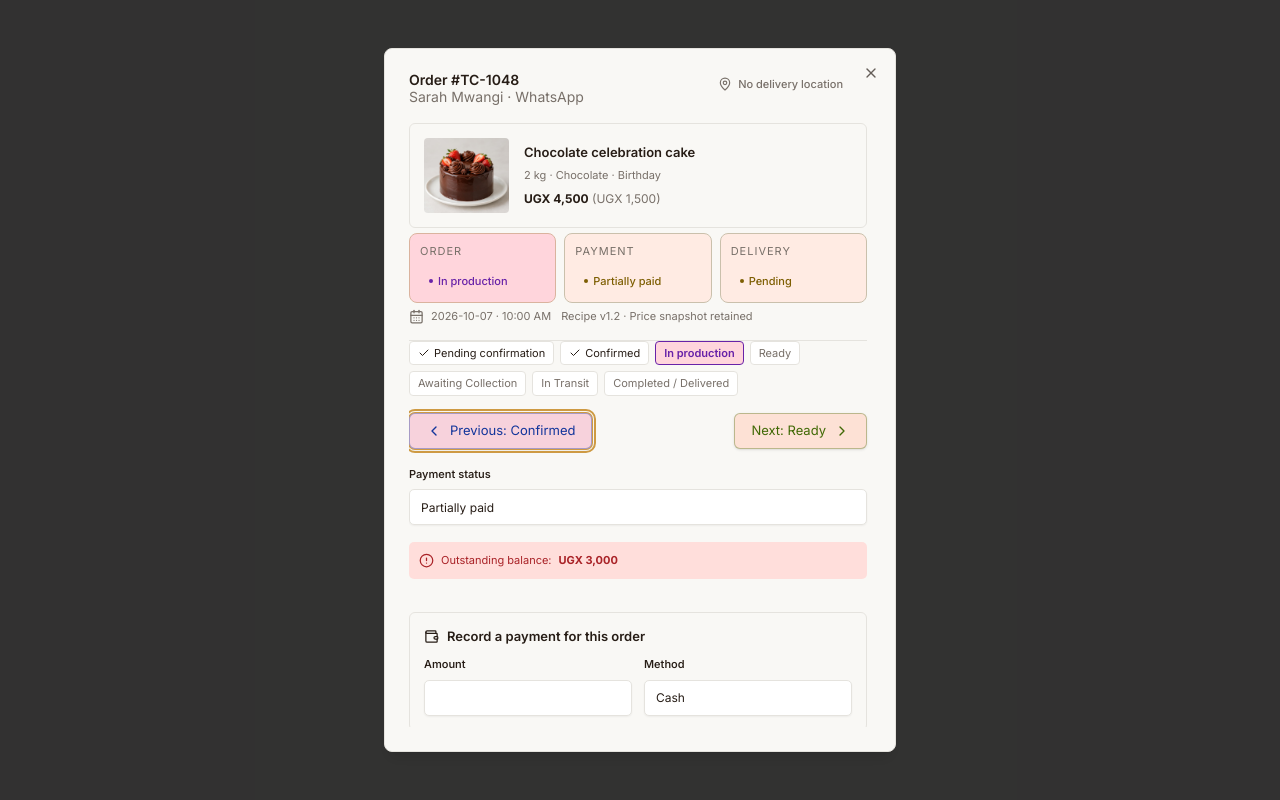
it: OrderDialog stage strip (Phase E5) › opens on the ACTIVE stage and only advances when Next is clicked
The image size is (1280, 800).
Manual step forward — the target moves one stage, submit unlocks.
Click the button "Next: Ready": (801, 430) x1=734 y1=412 x2=867 y2=448
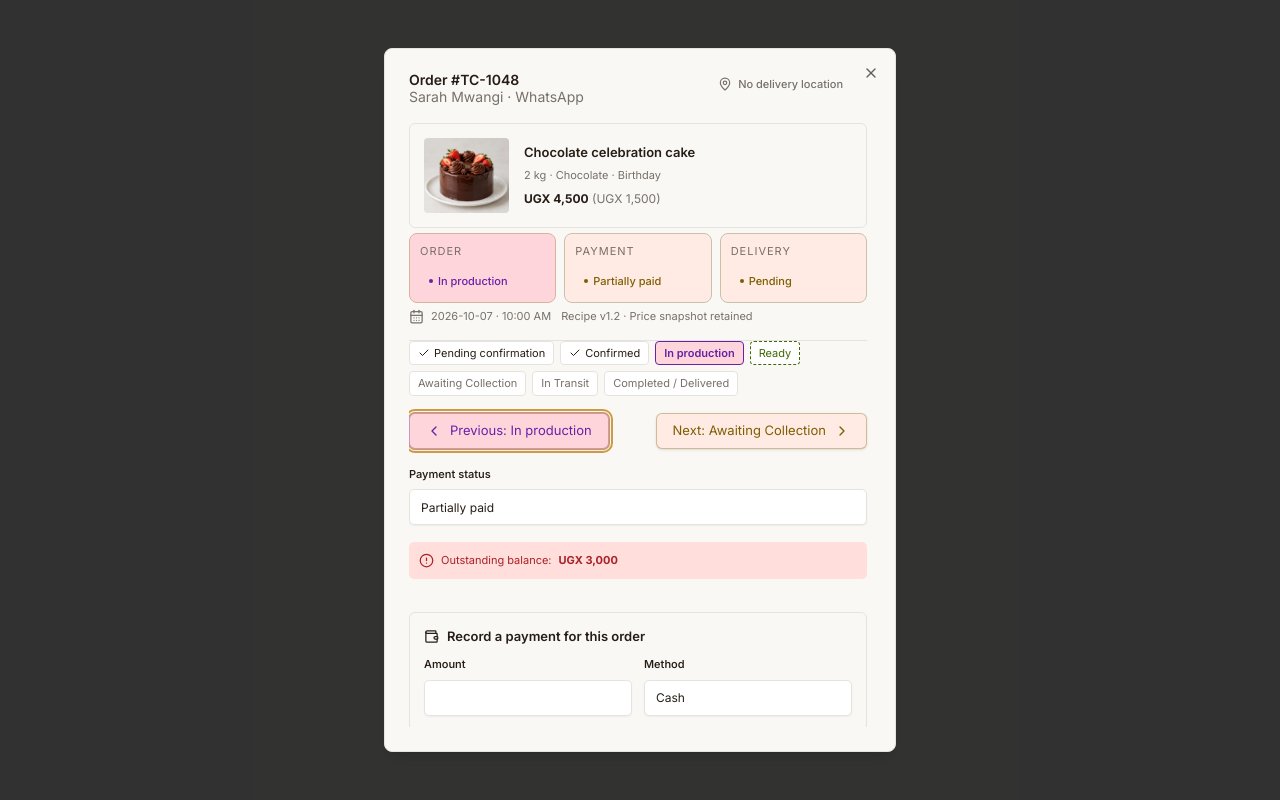
Result: the button "Previous: In production" has class "tone-violet"
Result: the button "Next: Awaiting Collection" has class "tone-amber" at x1=656 y1=412 x2=867 y2=448
Navigation follows the TARGET, so steps accumulate across clicks.
Click the button "Previous: In production": (509, 430) x1=409 y1=412 x2=609 y2=448
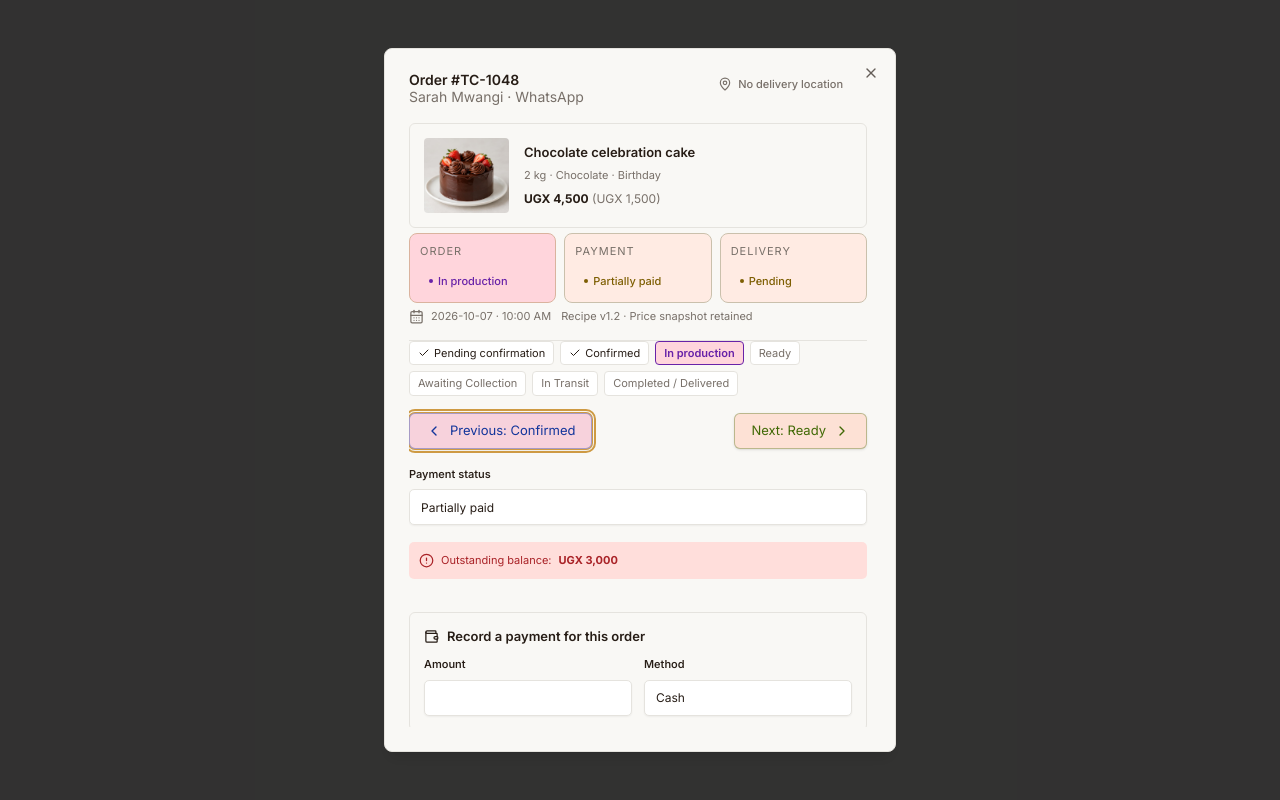
Click the button "Previous: Confirmed": (501, 430) x1=409 y1=412 x2=592 y2=448
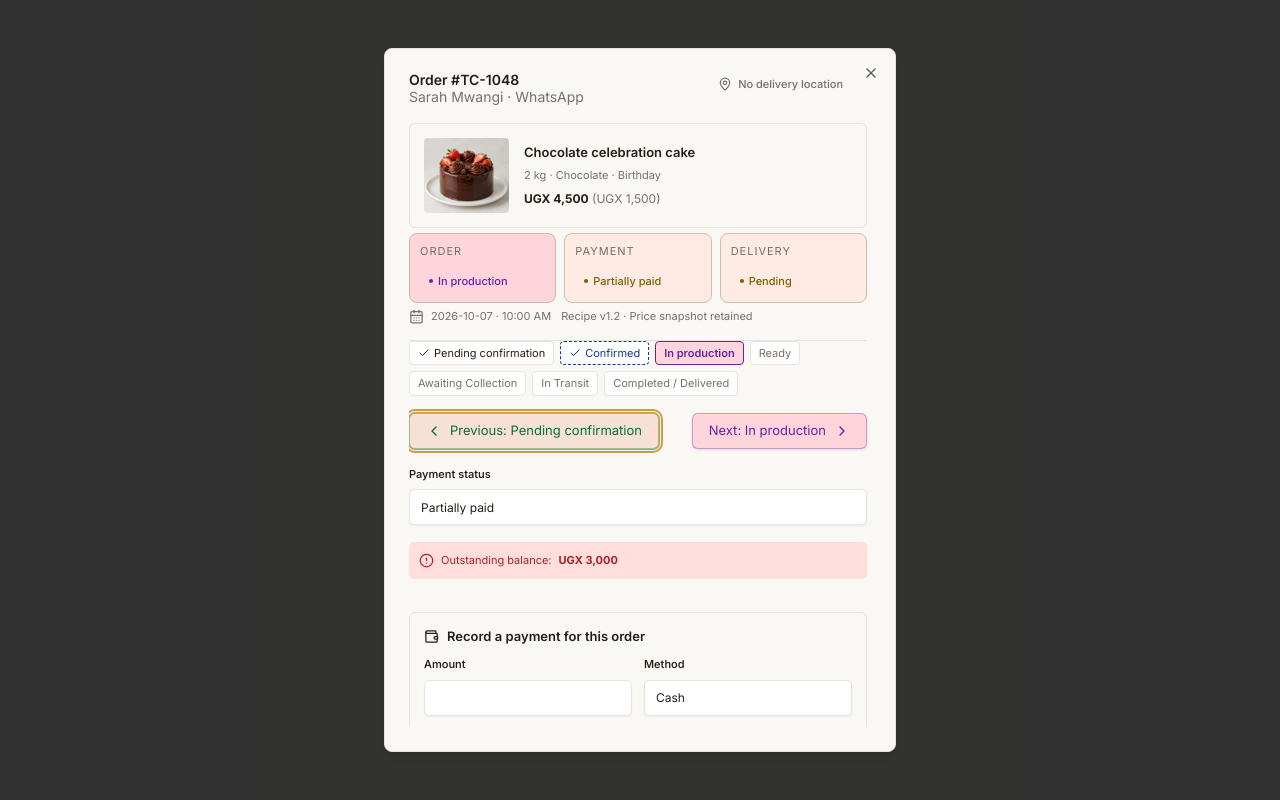
Expected: the element showing "In production" is shown, x1=420 y1=268 x2=517 y2=293
Result: the button "Next: In production" is shown at x1=692 y1=412 x2=867 y2=448
